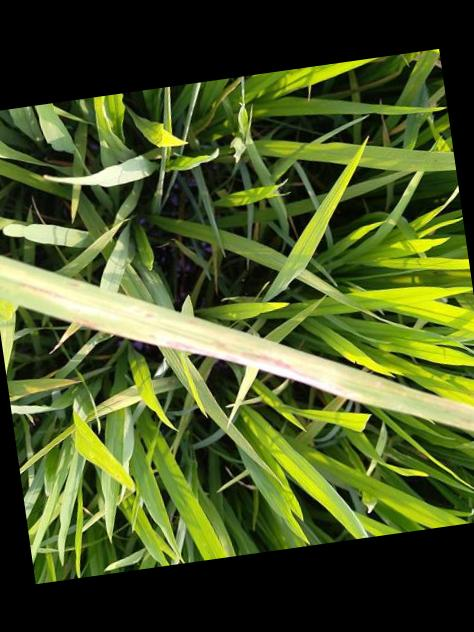Leaf Streak: (0, 255, 474, 434)
